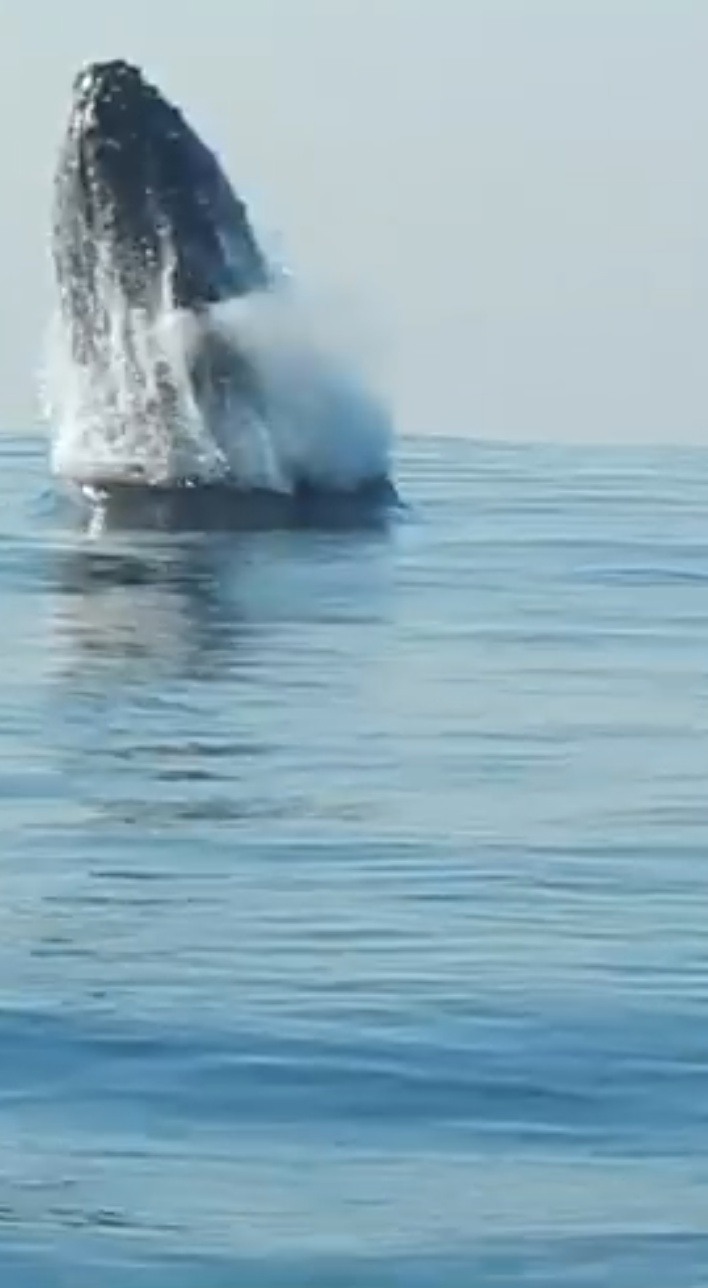humpback: (59, 53, 404, 508)
